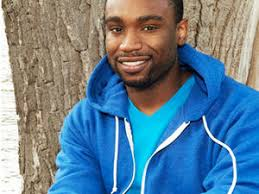No-Glasses: (102, 12, 168, 38)
